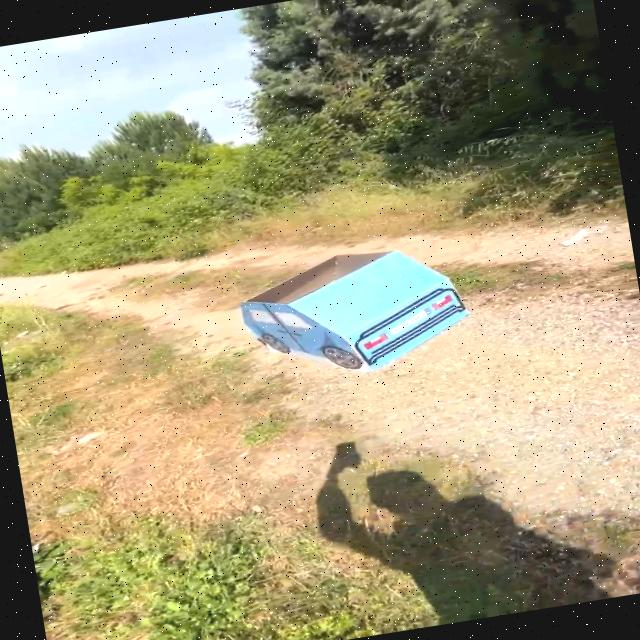blue_car: (219, 219, 493, 404)
